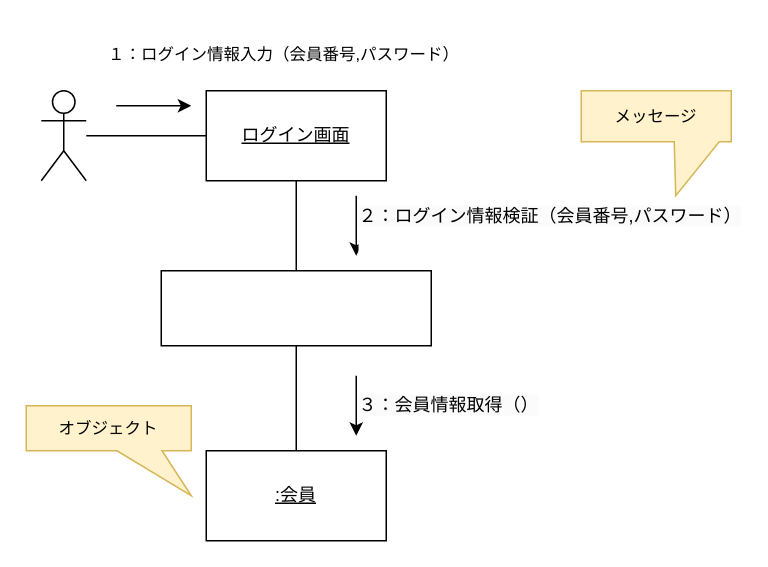
This 768x567 diagram has some shape labels left out. Each missing label, with the box of its shape:
:ログインコントローラ: (160, 269, 431, 346)
Actor: (40, 89, 86, 181)
